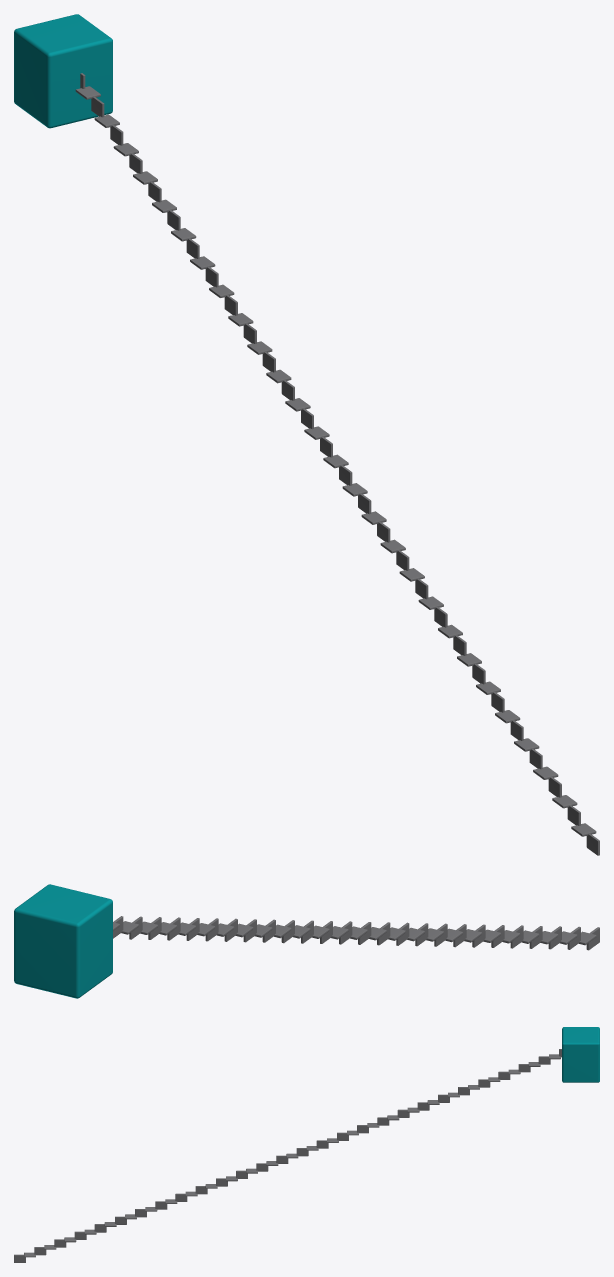
The model's file is water.ferry.chain.glb.
The picture shows the model from 3 angles, top to bottom: view 1: azimuth 30°, elevation 25°; view 2: azimuth 150°, elevation 25°; view 3: azimuth 270°, elevation 25°; orthographic projection. The views are drawn at different scales.
Parts seen in each view (by area): view 1: main__galv_777, main__paint_099; view 2: main__paint_099, main__galv_777; view 3: main__galv_777, main__paint_099.
Boxes of the visible parts, x1=… form: main__galv_777: x1=75, y1=73, x2=599, y2=855; main__paint_099: x1=14, y1=14, x2=112, y2=128; main__paint_099: x1=14, y1=884, x2=112, y2=998; main__galv_777: x1=113, y1=916, x2=599, y2=950; main__galv_777: x1=14, y1=1049, x2=561, y2=1262; main__paint_099: x1=562, y1=1027, x2=599, y2=1082.
Size of the model in its own units: 0.64 by 3.99 by 9.29.
